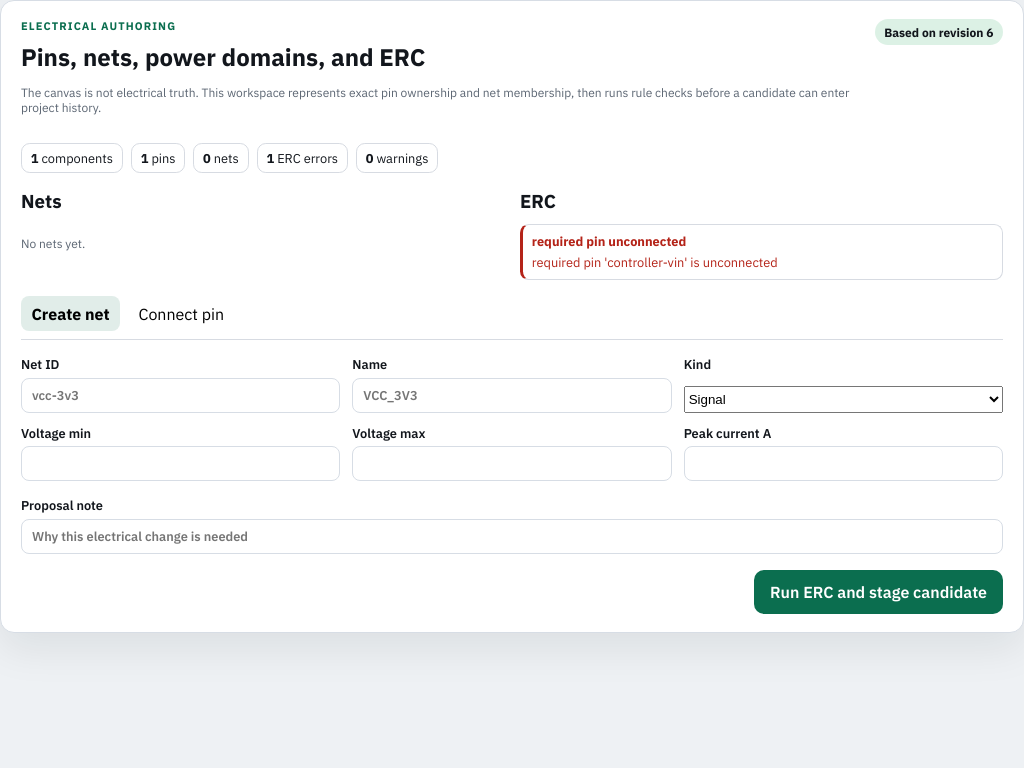
ElectricalDesignPanel › stages a net candidate as a discipline-payload review
The width and height of the screenshot is (1024, 768).
Expected: the text "required pin unconnected" is shown, 532,233 -> 686,250
In the field labelled "Net ID": (181, 395) 21,378 -> 340,412, type "vcc"
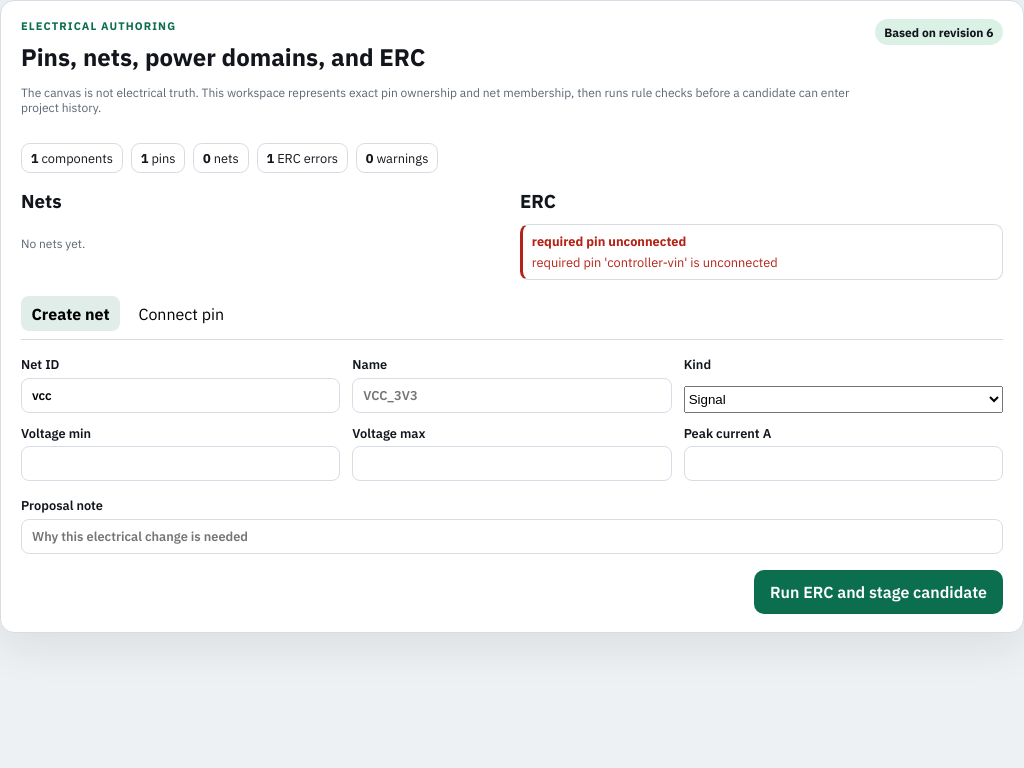
In the field labelled "Name": (512, 395) 352,378 -> 672,412, type "VCC"
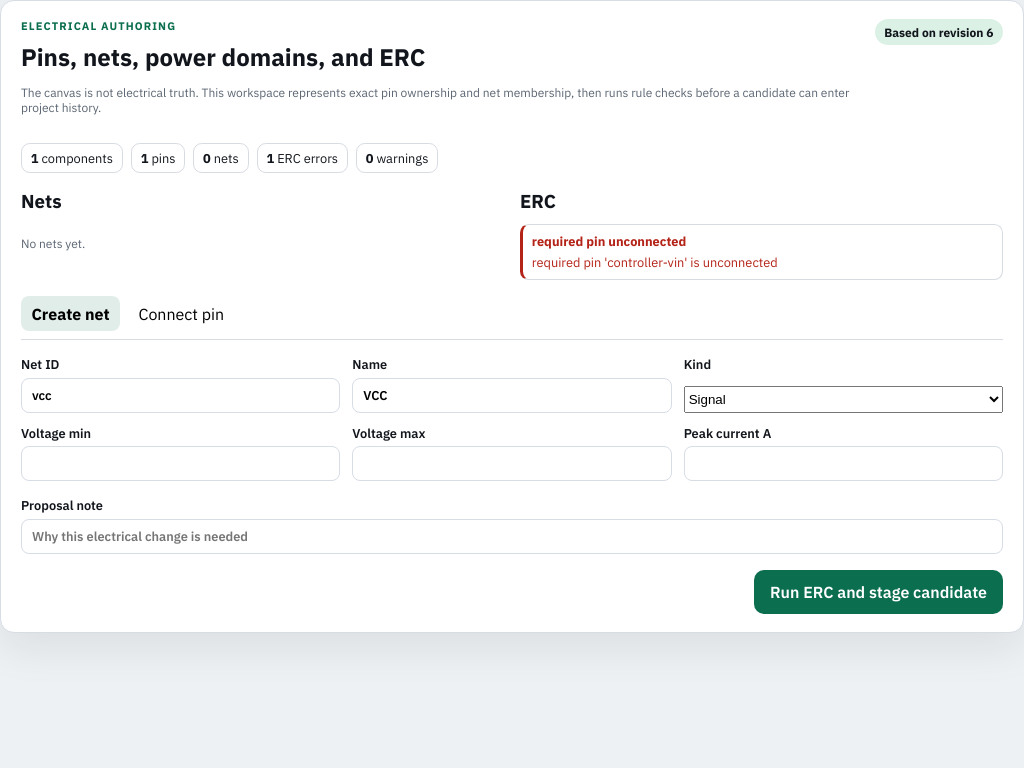
Select "Power" in the dropdown labelled "Kind": (843, 399) 684,386 -> 1003,412
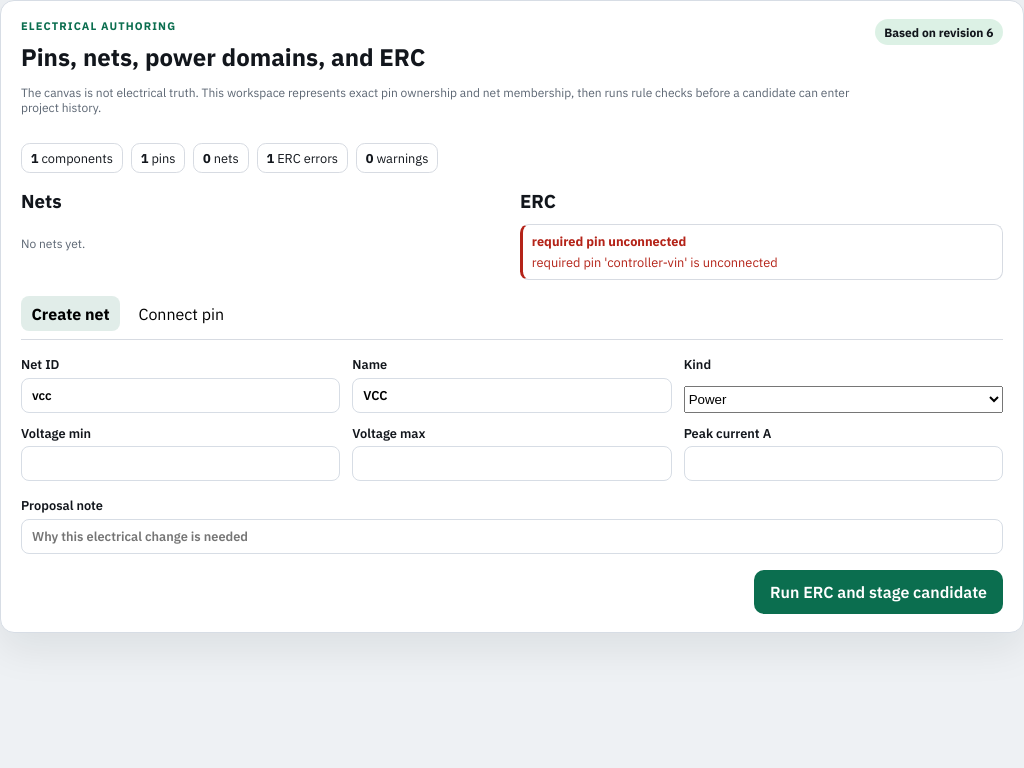
Click the button "Run ERC and stage candidate": click(878, 592) 754,570 -> 1003,614
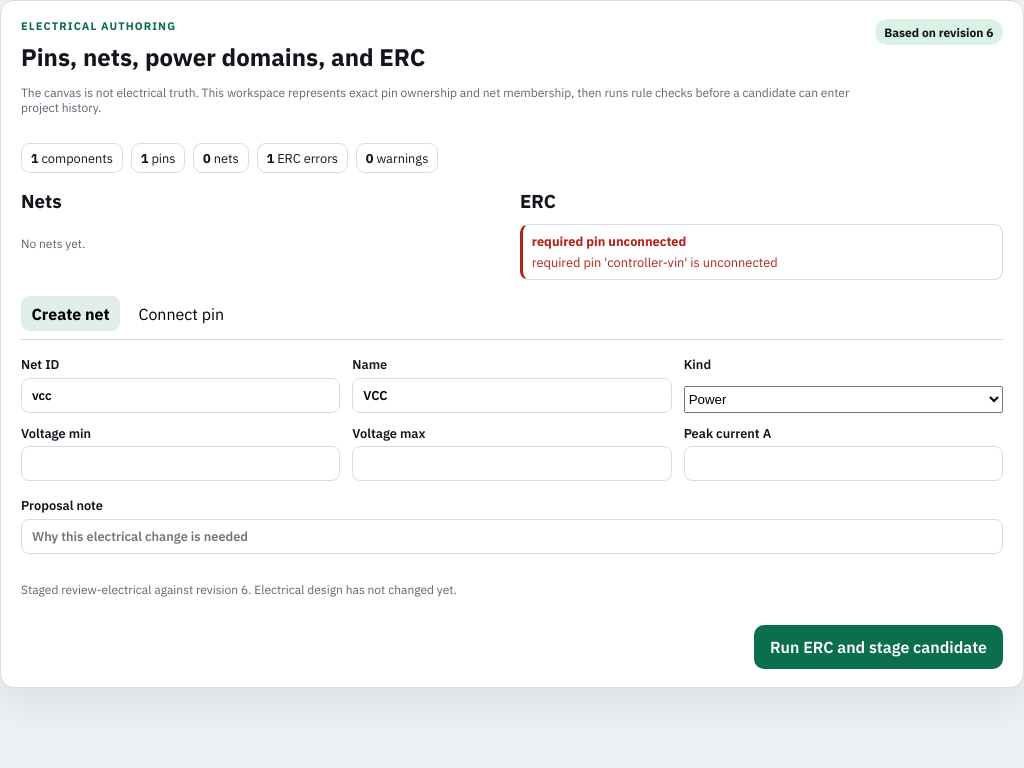
Now the text with test id "electrical-design-staged" shows "review-electrical", box 61,582 -> 152,597
